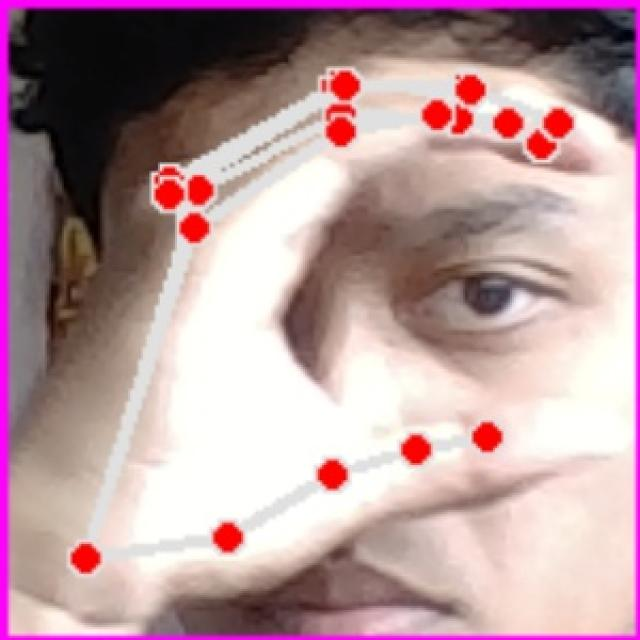C: (22, 63, 617, 619)
